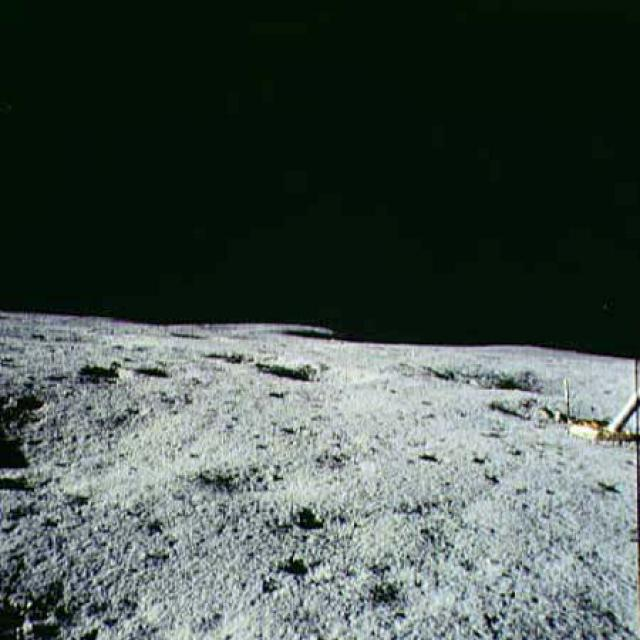crater: (0, 379, 211, 510), (180, 442, 348, 500), (419, 357, 633, 402), (319, 565, 459, 619), (257, 352, 408, 396), (243, 542, 335, 580), (270, 499, 354, 533)
